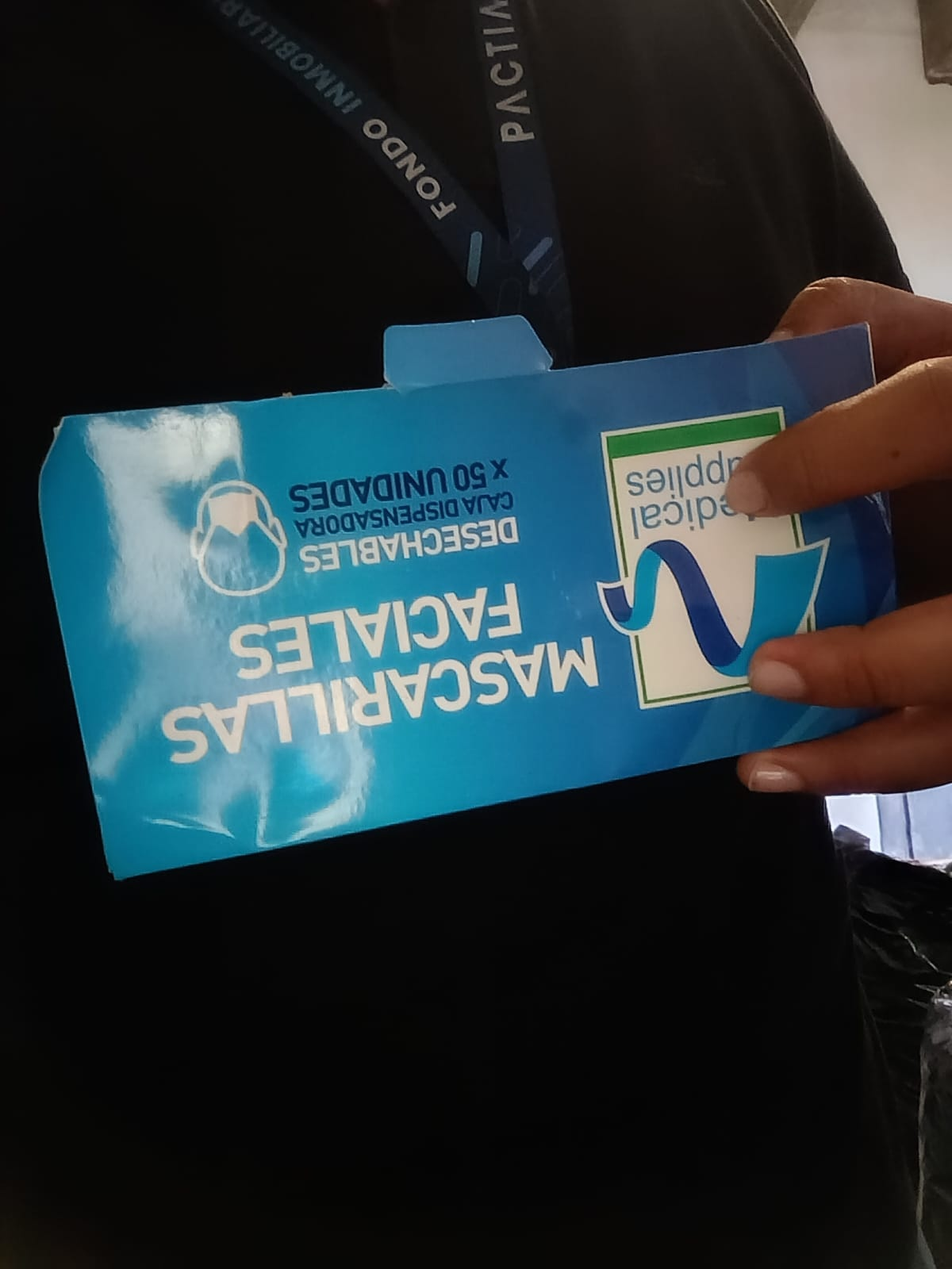Carton: (44, 319, 952, 881)
